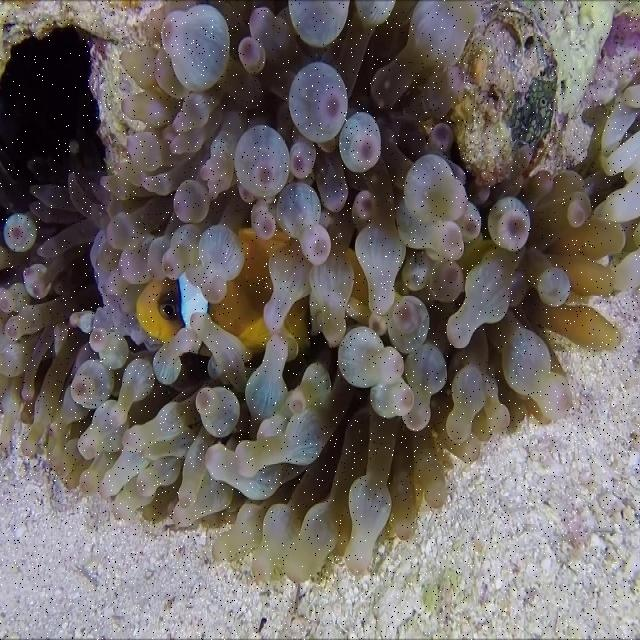reefs: (0, 1, 639, 583)
